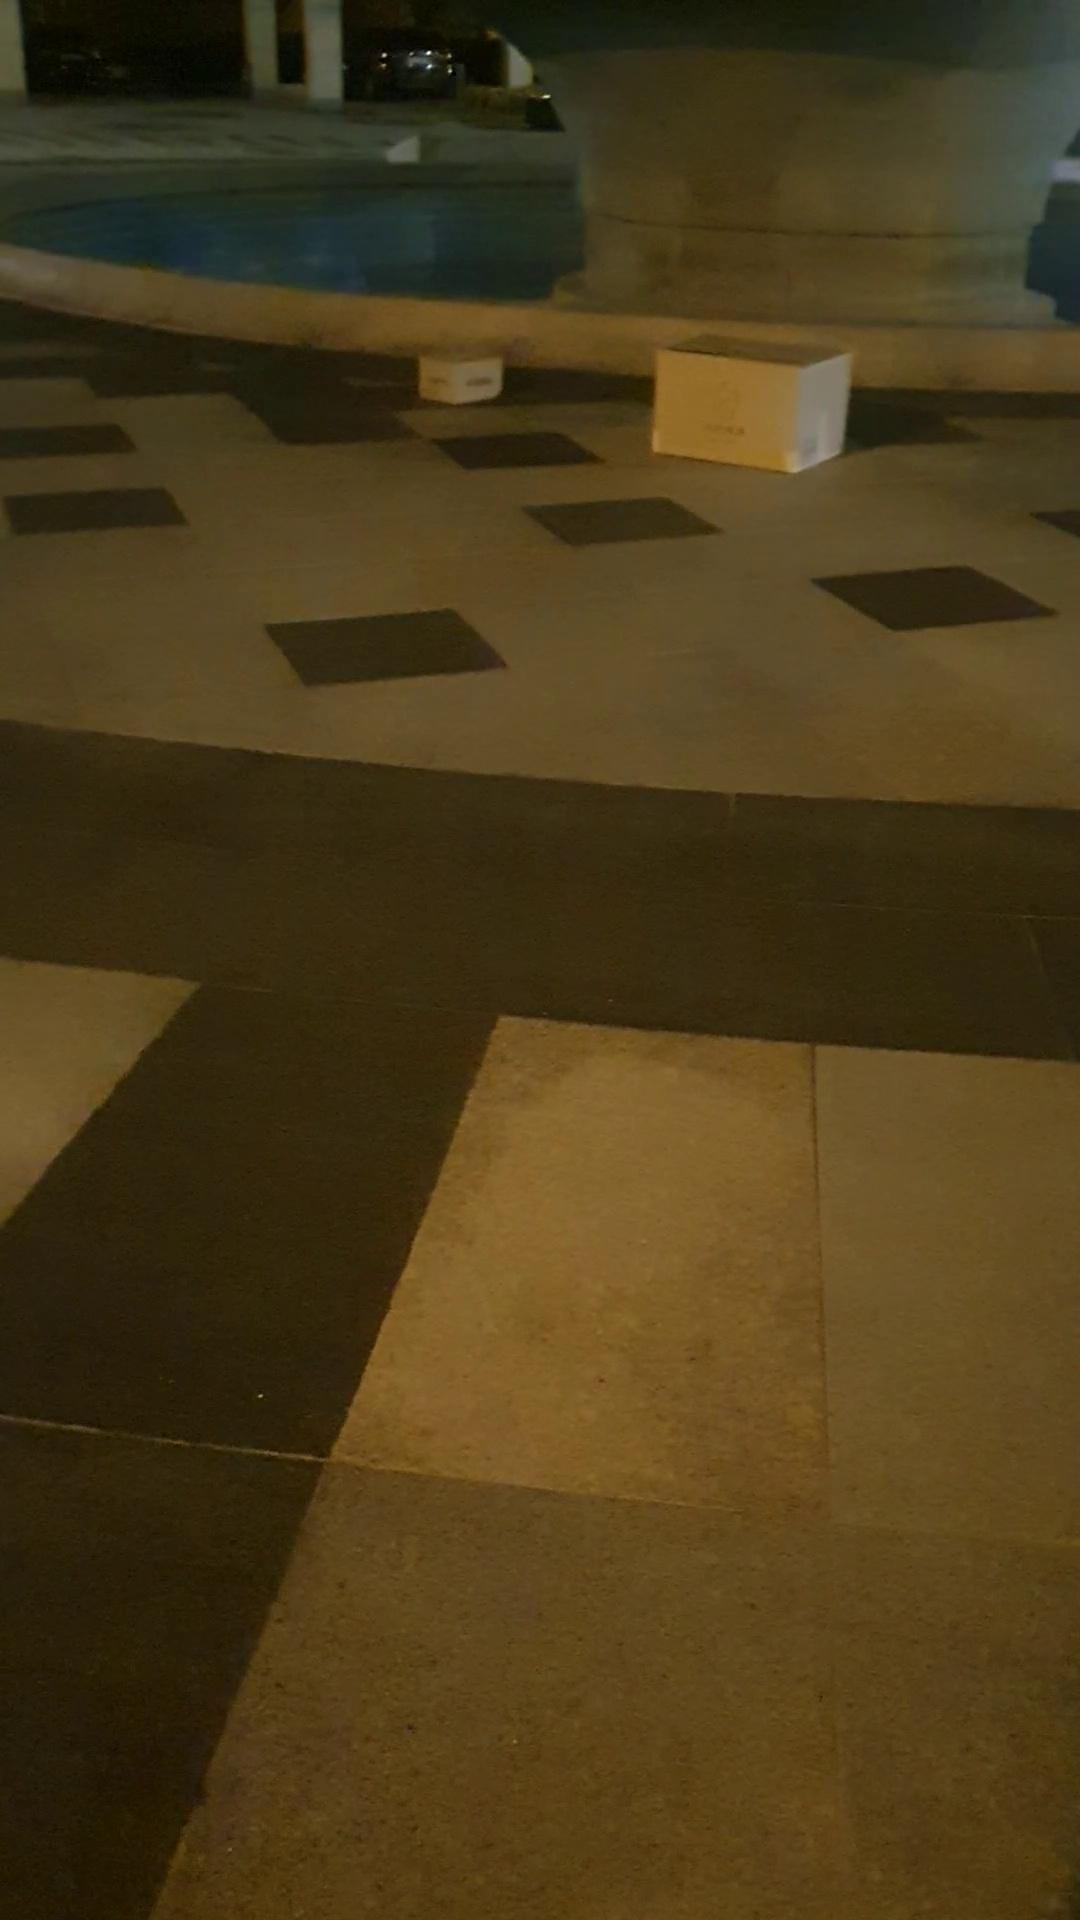Box: (644, 330, 858, 480), (401, 343, 513, 418)
